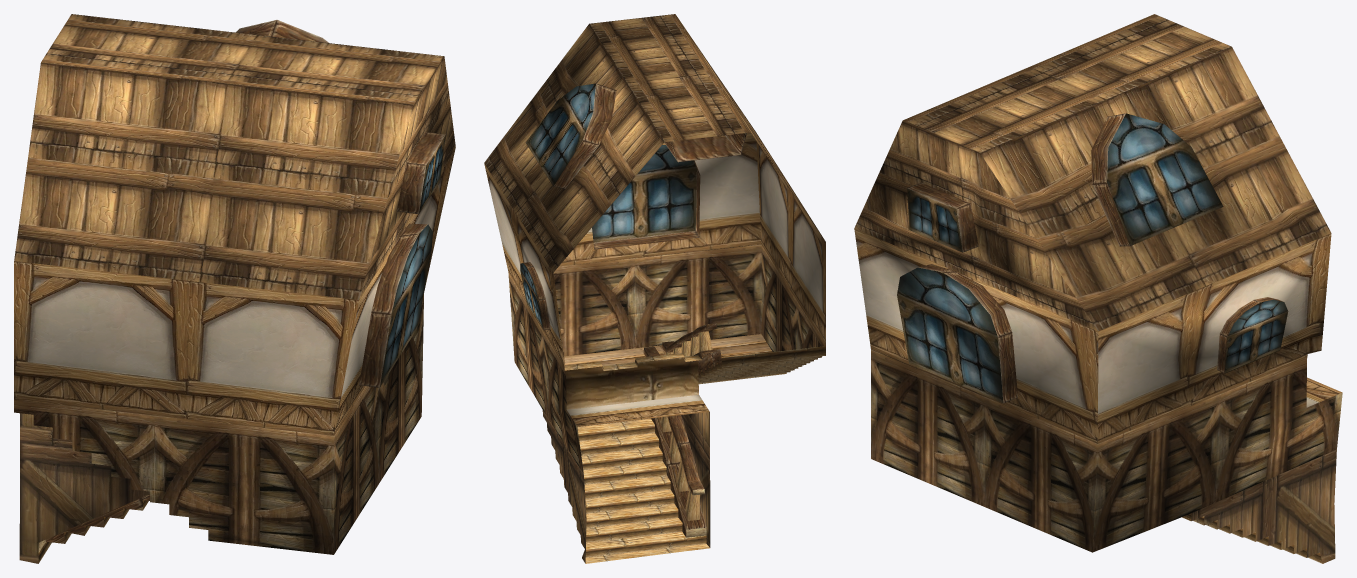
Rendered from stormwind_250.fbx.
The picture shows the model from 3 angles, left to right: view 1: azimuth 30°, elevation 25°; view 2: azimuth 150°, elevation 25°; view 3: azimuth 270°, elevation 25°; orthographic projection. The views are drawn at different scales.
Parts seen in each view (by area): view 1: stormwind_250_55, stormwind_250_48, stormwind_250_49, stormwind_250_56, stormwind_250_53, stormwind_250_84; view 2: stormwind_250_53, stormwind_250_55, stormwind_250_49, stormwind_250_48, stormwind_250_84, stormwind_250_56, stormwind_250_51, stormwind_250_54; view 3: stormwind_250_55, stormwind_250_49, stormwind_250_48, stormwind_250_84, stormwind_250_56, stormwind_250_53.
Part boxes in pixels (x1,y1,x2,y2): stormwind_250_55: [14, 14, 455, 299]; stormwind_250_48: [14, 148, 455, 435]; stormwind_250_49: [14, 293, 423, 554]; stormwind_250_56: [19, 413, 149, 563]; stormwind_250_53: [38, 20, 445, 563]; stormwind_250_84: [380, 135, 445, 386]; stormwind_250_53: [523, 83, 825, 563]; stormwind_250_55: [484, 14, 824, 272]; stormwind_250_49: [508, 244, 825, 473]; stormwind_250_48: [484, 133, 825, 426]; stormwind_250_84: [520, 83, 696, 329]; stormwind_250_56: [542, 351, 710, 563]; stormwind_250_51: [564, 334, 772, 365]; stormwind_250_54: [645, 329, 712, 537]; stormwind_250_55: [854, 14, 1331, 331]; stormwind_250_49: [871, 349, 1342, 552]; stormwind_250_48: [854, 228, 1342, 443]; stormwind_250_84: [897, 113, 1288, 402]; stormwind_250_56: [1191, 449, 1336, 563]; stormwind_250_53: [907, 113, 1322, 563].
Bounding box in the file's own units: 13.46 × 15.25 × 13.78.
